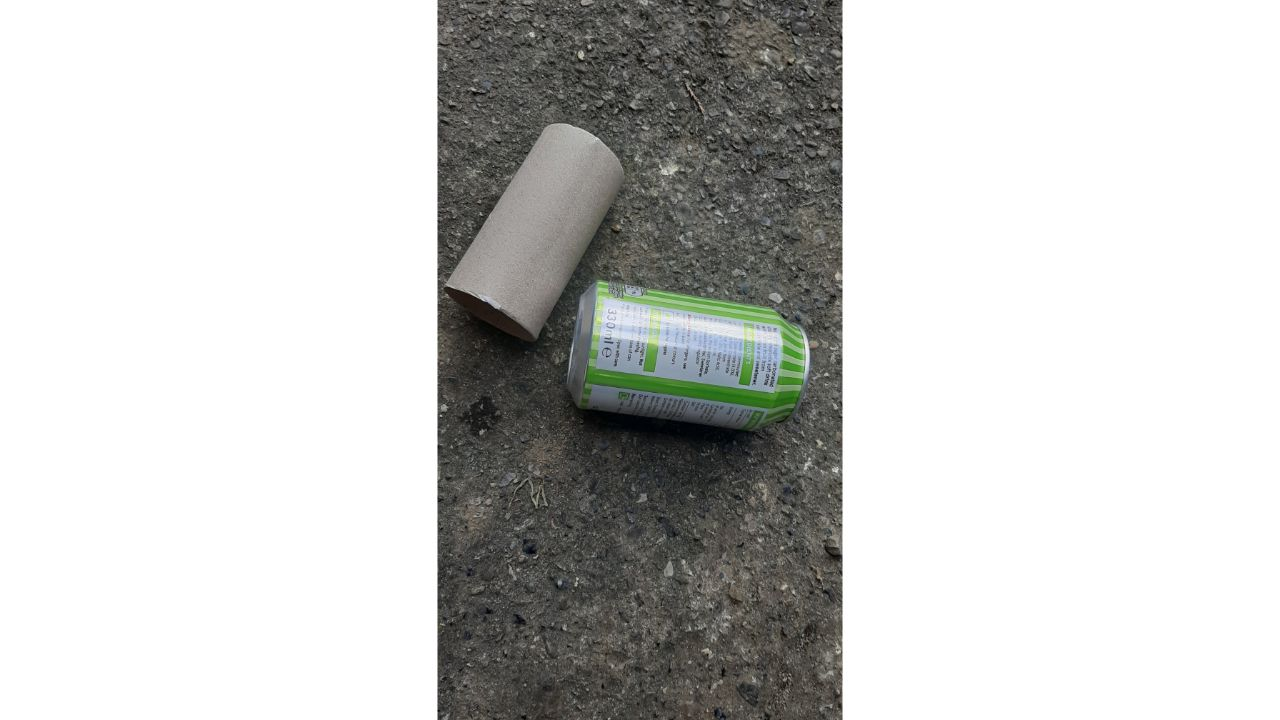Can: (559, 270, 815, 441)
